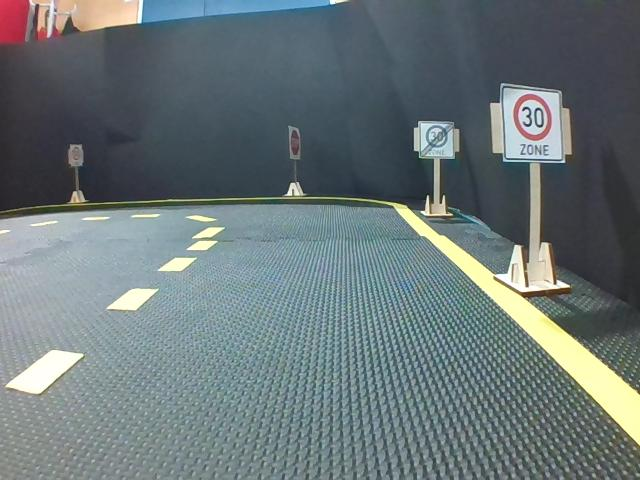30: (502, 84, 564, 162), (70, 145, 84, 166)
no30: (420, 122, 454, 158)
stop: (289, 127, 302, 158)
